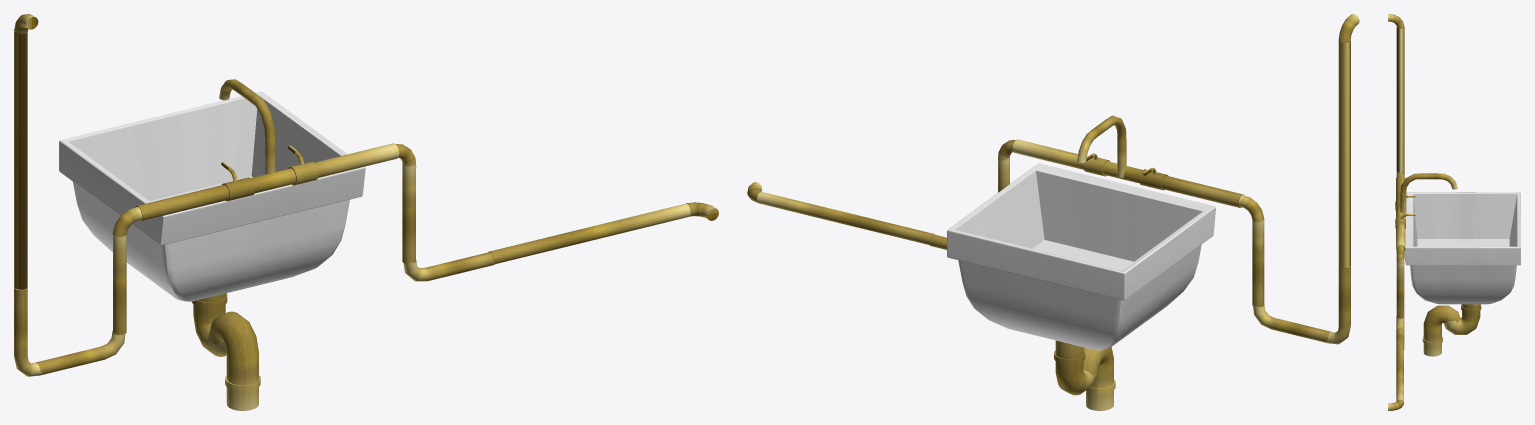
The model's file is lavamanos.obj.
3 renders of one model, left to right at view 1: azimuth 30°, elevation 25°; view 2: azimuth 150°, elevation 25°; view 3: azimuth 270°, elevation 25°, orthographic. The views are drawn at different scales.
Parts seen in each view (by area): view 1: group12_pasted__group8_pasted__pasted__pCylinder4; view 2: group12_pasted__group8_pasted__pasted__pCylinder4; view 3: group12_pasted__group8_pasted__pasted__pCylinder4.
Boxes of the visible parts, bbox=[...] form: group12_pasted__group8_pasted__pasted__pCylinder4: bbox=[14, 14, 718, 410]; group12_pasted__group8_pasted__pasted__pCylinder4: bbox=[747, 14, 1359, 410]; group12_pasted__group8_pasted__pasted__pCylinder4: bbox=[1388, 14, 1520, 410].
Size of the model in its own units: 16.85 by 11.09 by 4.96.
18 materials, 18 textured.
